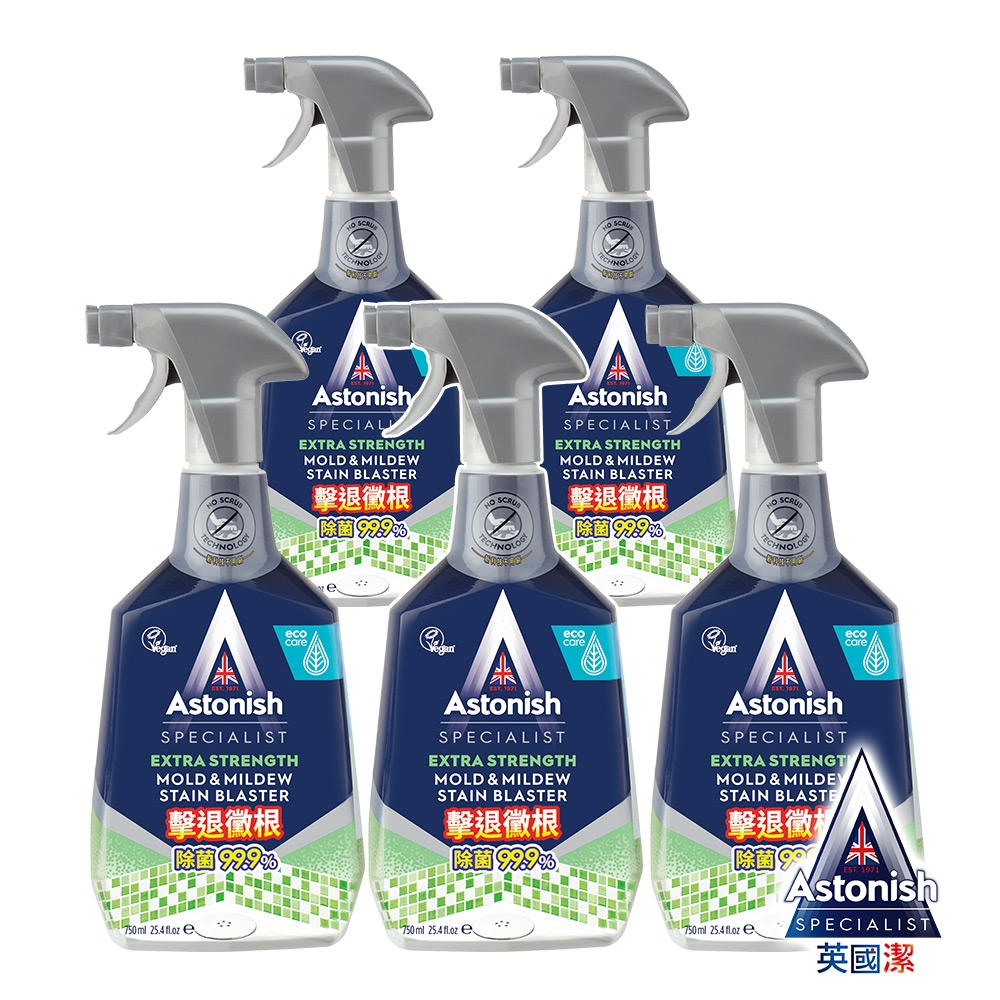cleaner: (324, 287, 658, 969), (626, 290, 947, 963), (68, 298, 362, 953), (479, 52, 757, 618), (216, 52, 479, 621)
